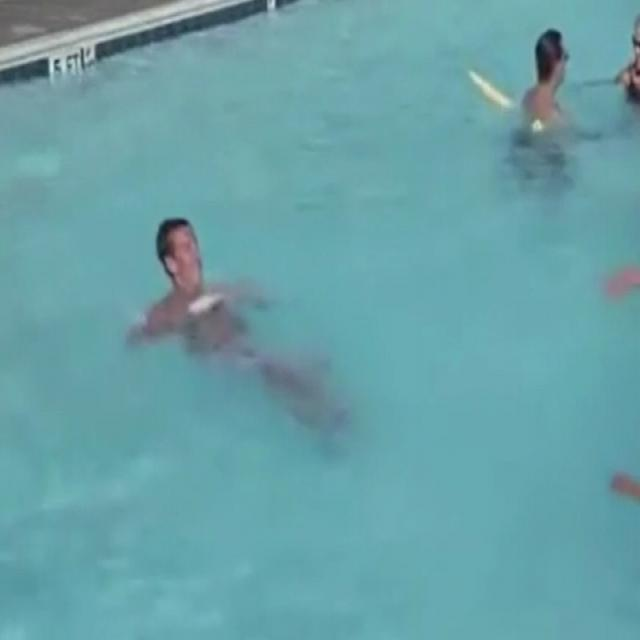swimming: (116, 210, 362, 421), (454, 1, 640, 184)
